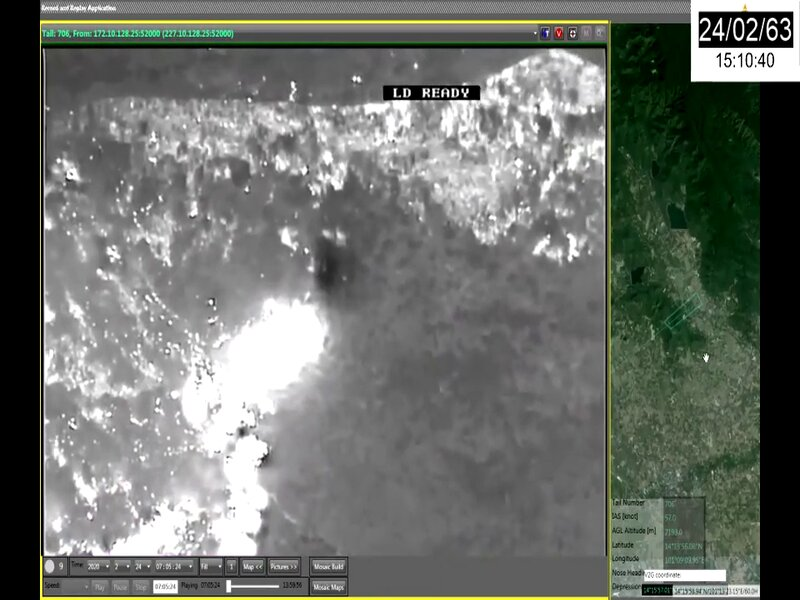Fire: (87, 295, 330, 556)
